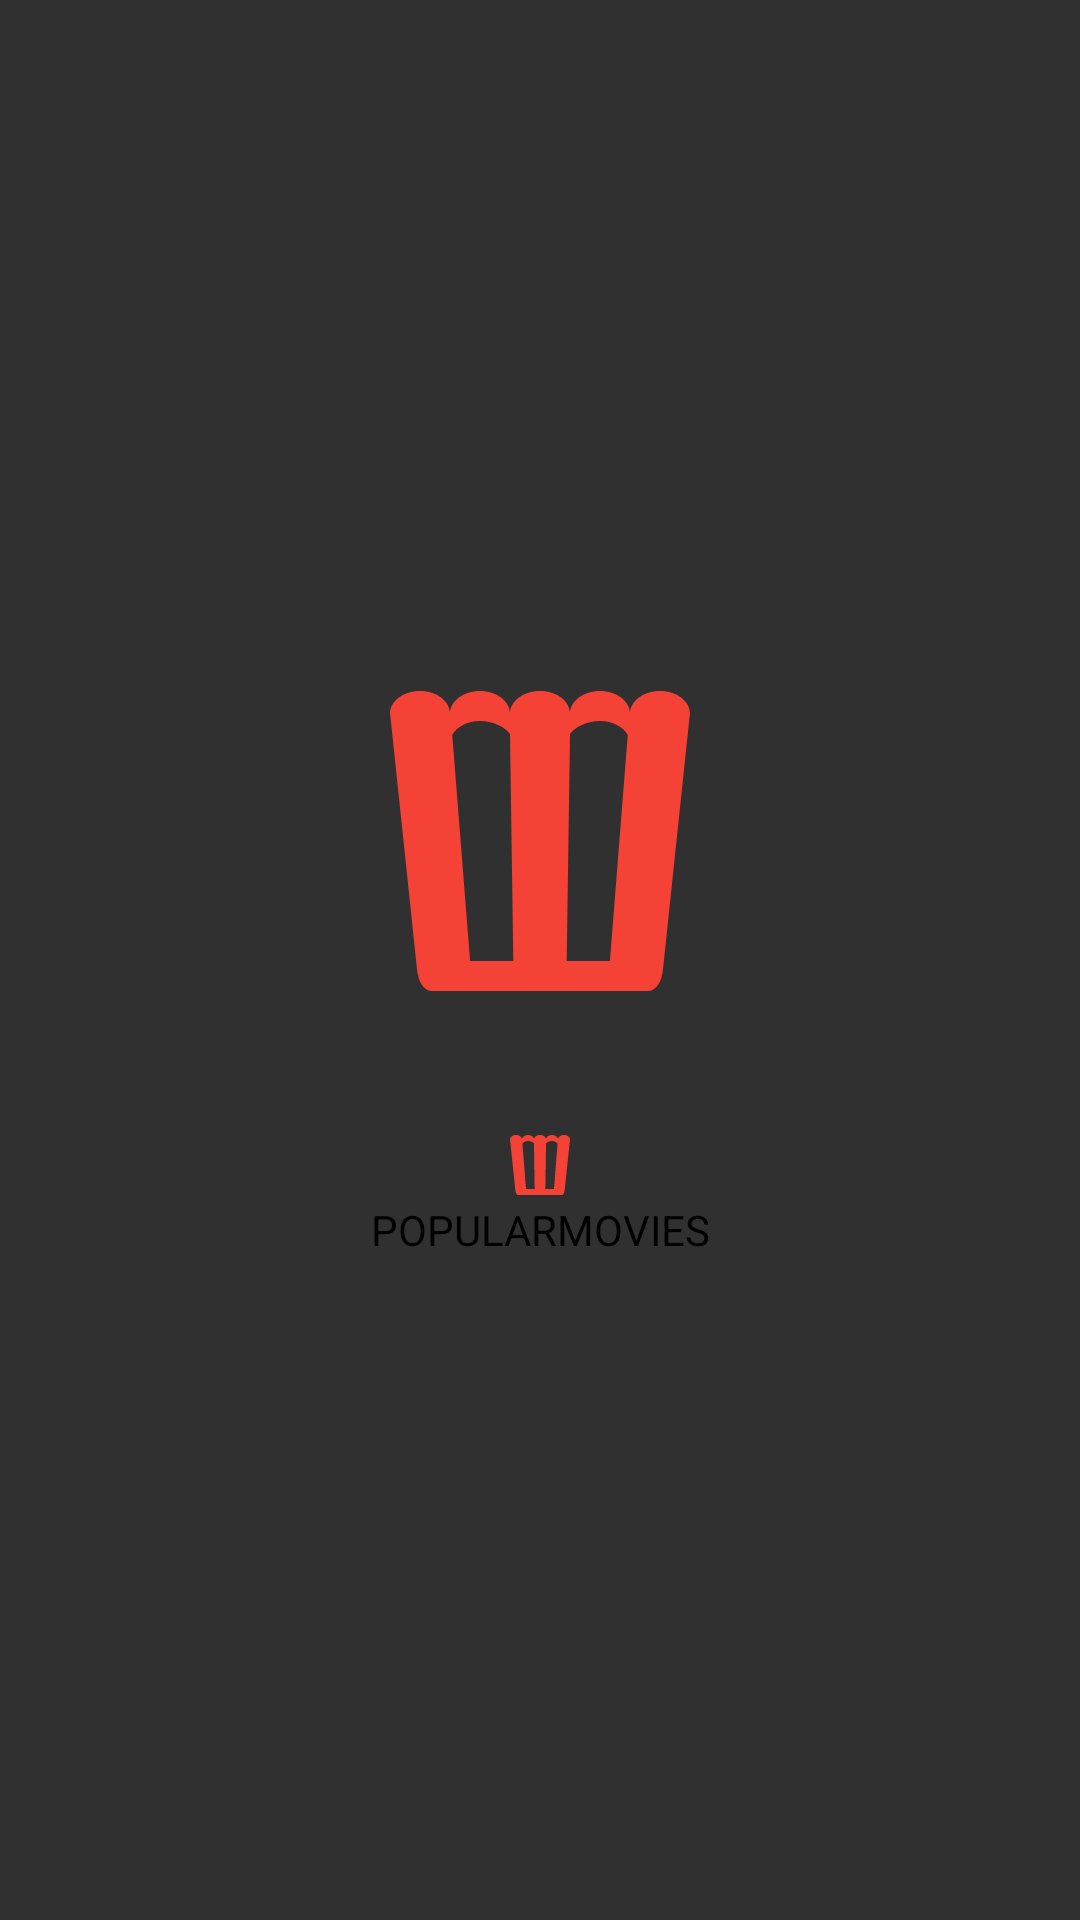

Screen size 1080w x 1920h. Icon name, then its box in pixels as (x1, y1, x2, y2):
popcorn: (390, 691, 690, 991)
